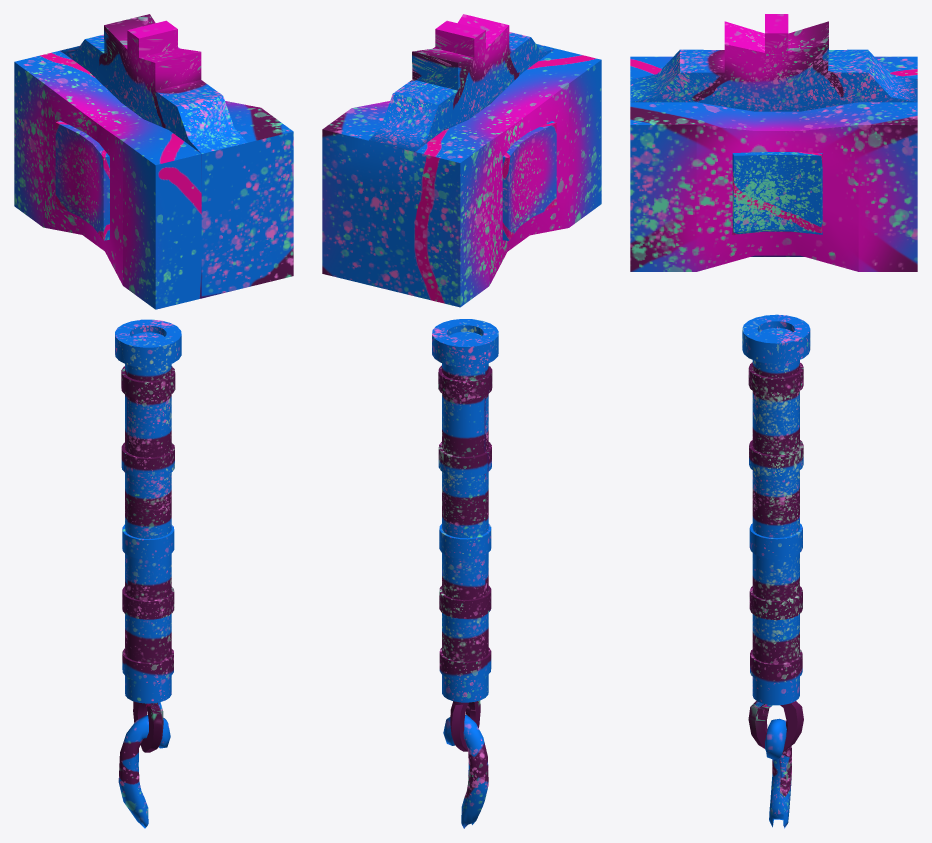
Rendered from MAS_1 - QIZ04 - Textured Hammer.obj.
3 renders of one model, left to right at view 1: azimuth 30°, elevation 25°; view 2: azimuth 150°, elevation 25°; view 3: azimuth 270°, elevation 25°, orthographic.
Parts seen in each view (by area): view 1: Hammer_(Custom)_Hammer.001; view 2: Hammer_(Custom)_Hammer.001; view 3: Hammer_(Custom)_Hammer.001.
Boxes of the visible parts, x1=… form: Hammer_(Custom)_Hammer.001: x1=14, y1=14, x2=293, y2=828; Hammer_(Custom)_Hammer.001: x1=322, y1=14, x2=601, y2=828; Hammer_(Custom)_Hammer.001: x1=630, y1=14, x2=917, y2=828.
Bounding box in the file's own units: 1.05 × 5.51 × 1.77.
Materials: 1 (1 with a texture image).
